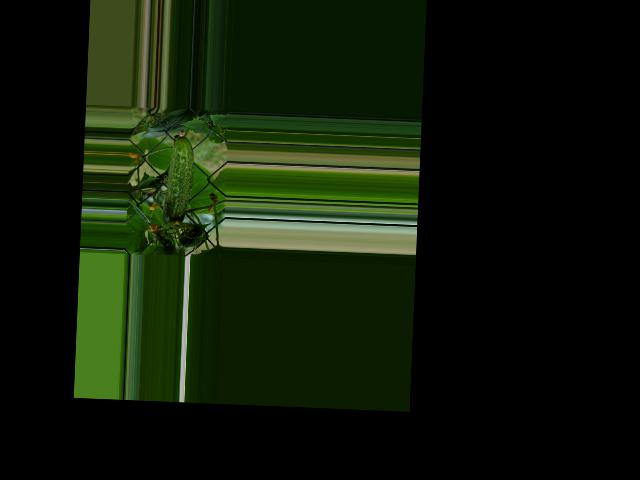cucumber: (163, 130, 195, 229)
